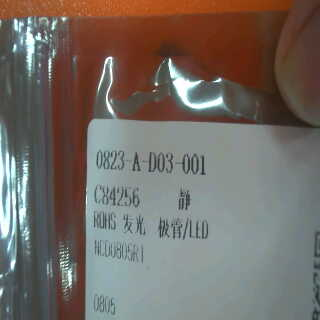LED: (120, 212, 217, 245)
